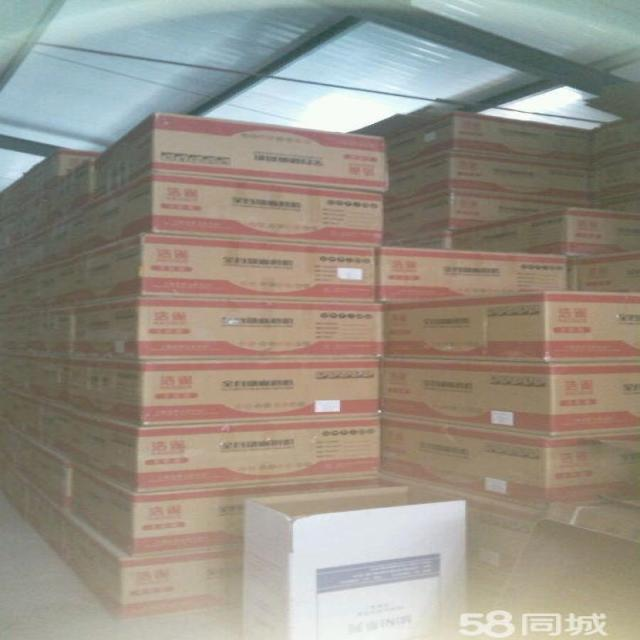box: (240, 487, 469, 640), (73, 466, 380, 555), (94, 112, 390, 202), (61, 412, 385, 494), (74, 172, 384, 256), (380, 415, 640, 507), (77, 233, 378, 306), (68, 357, 385, 426), (381, 357, 640, 438), (61, 508, 243, 621), (71, 296, 384, 360), (380, 290, 640, 363), (380, 474, 546, 572), (384, 111, 593, 172), (385, 151, 593, 203), (383, 189, 593, 240), (375, 248, 570, 302), (452, 208, 640, 258), (0, 150, 104, 215), (16, 434, 75, 514), (9, 390, 74, 450), (44, 159, 94, 224), (30, 209, 77, 270), (0, 187, 46, 249), (577, 250, 640, 294), (20, 352, 71, 406), (27, 482, 63, 557), (26, 306, 77, 356), (31, 256, 77, 310), (592, 114, 640, 164), (592, 152, 640, 202), (0, 458, 33, 522), (0, 234, 31, 282), (0, 270, 33, 314), (383, 230, 452, 250), (0, 417, 27, 467), (0, 311, 28, 351), (592, 191, 640, 212), (0, 349, 21, 394), (0, 389, 13, 421)
